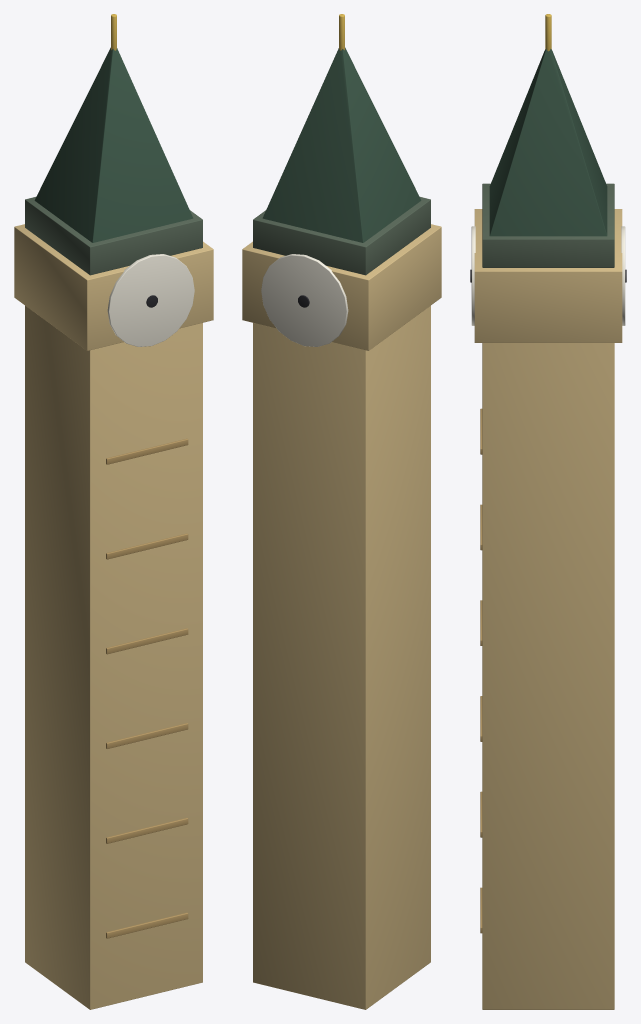
File: marco_bigben.glb
3 renders of one model, left to right at view 1: azimuth 30°, elevation 25°; view 2: azimuth 150°, elevation 25°; view 3: azimuth 270°, elevation 25°, orthographic.
Parts seen in each view (by area): view 1: marco_bigben; view 2: marco_bigben; view 3: marco_bigben.
Boxes of the visible parts, bbox=[...] form: marco_bigben: bbox=[14, 14, 213, 1009]; marco_bigben: bbox=[242, 14, 441, 1009]; marco_bigben: bbox=[470, 14, 626, 1009].
Bounding box in the file's own units: 5.6 × 40.4 × 5.92.
